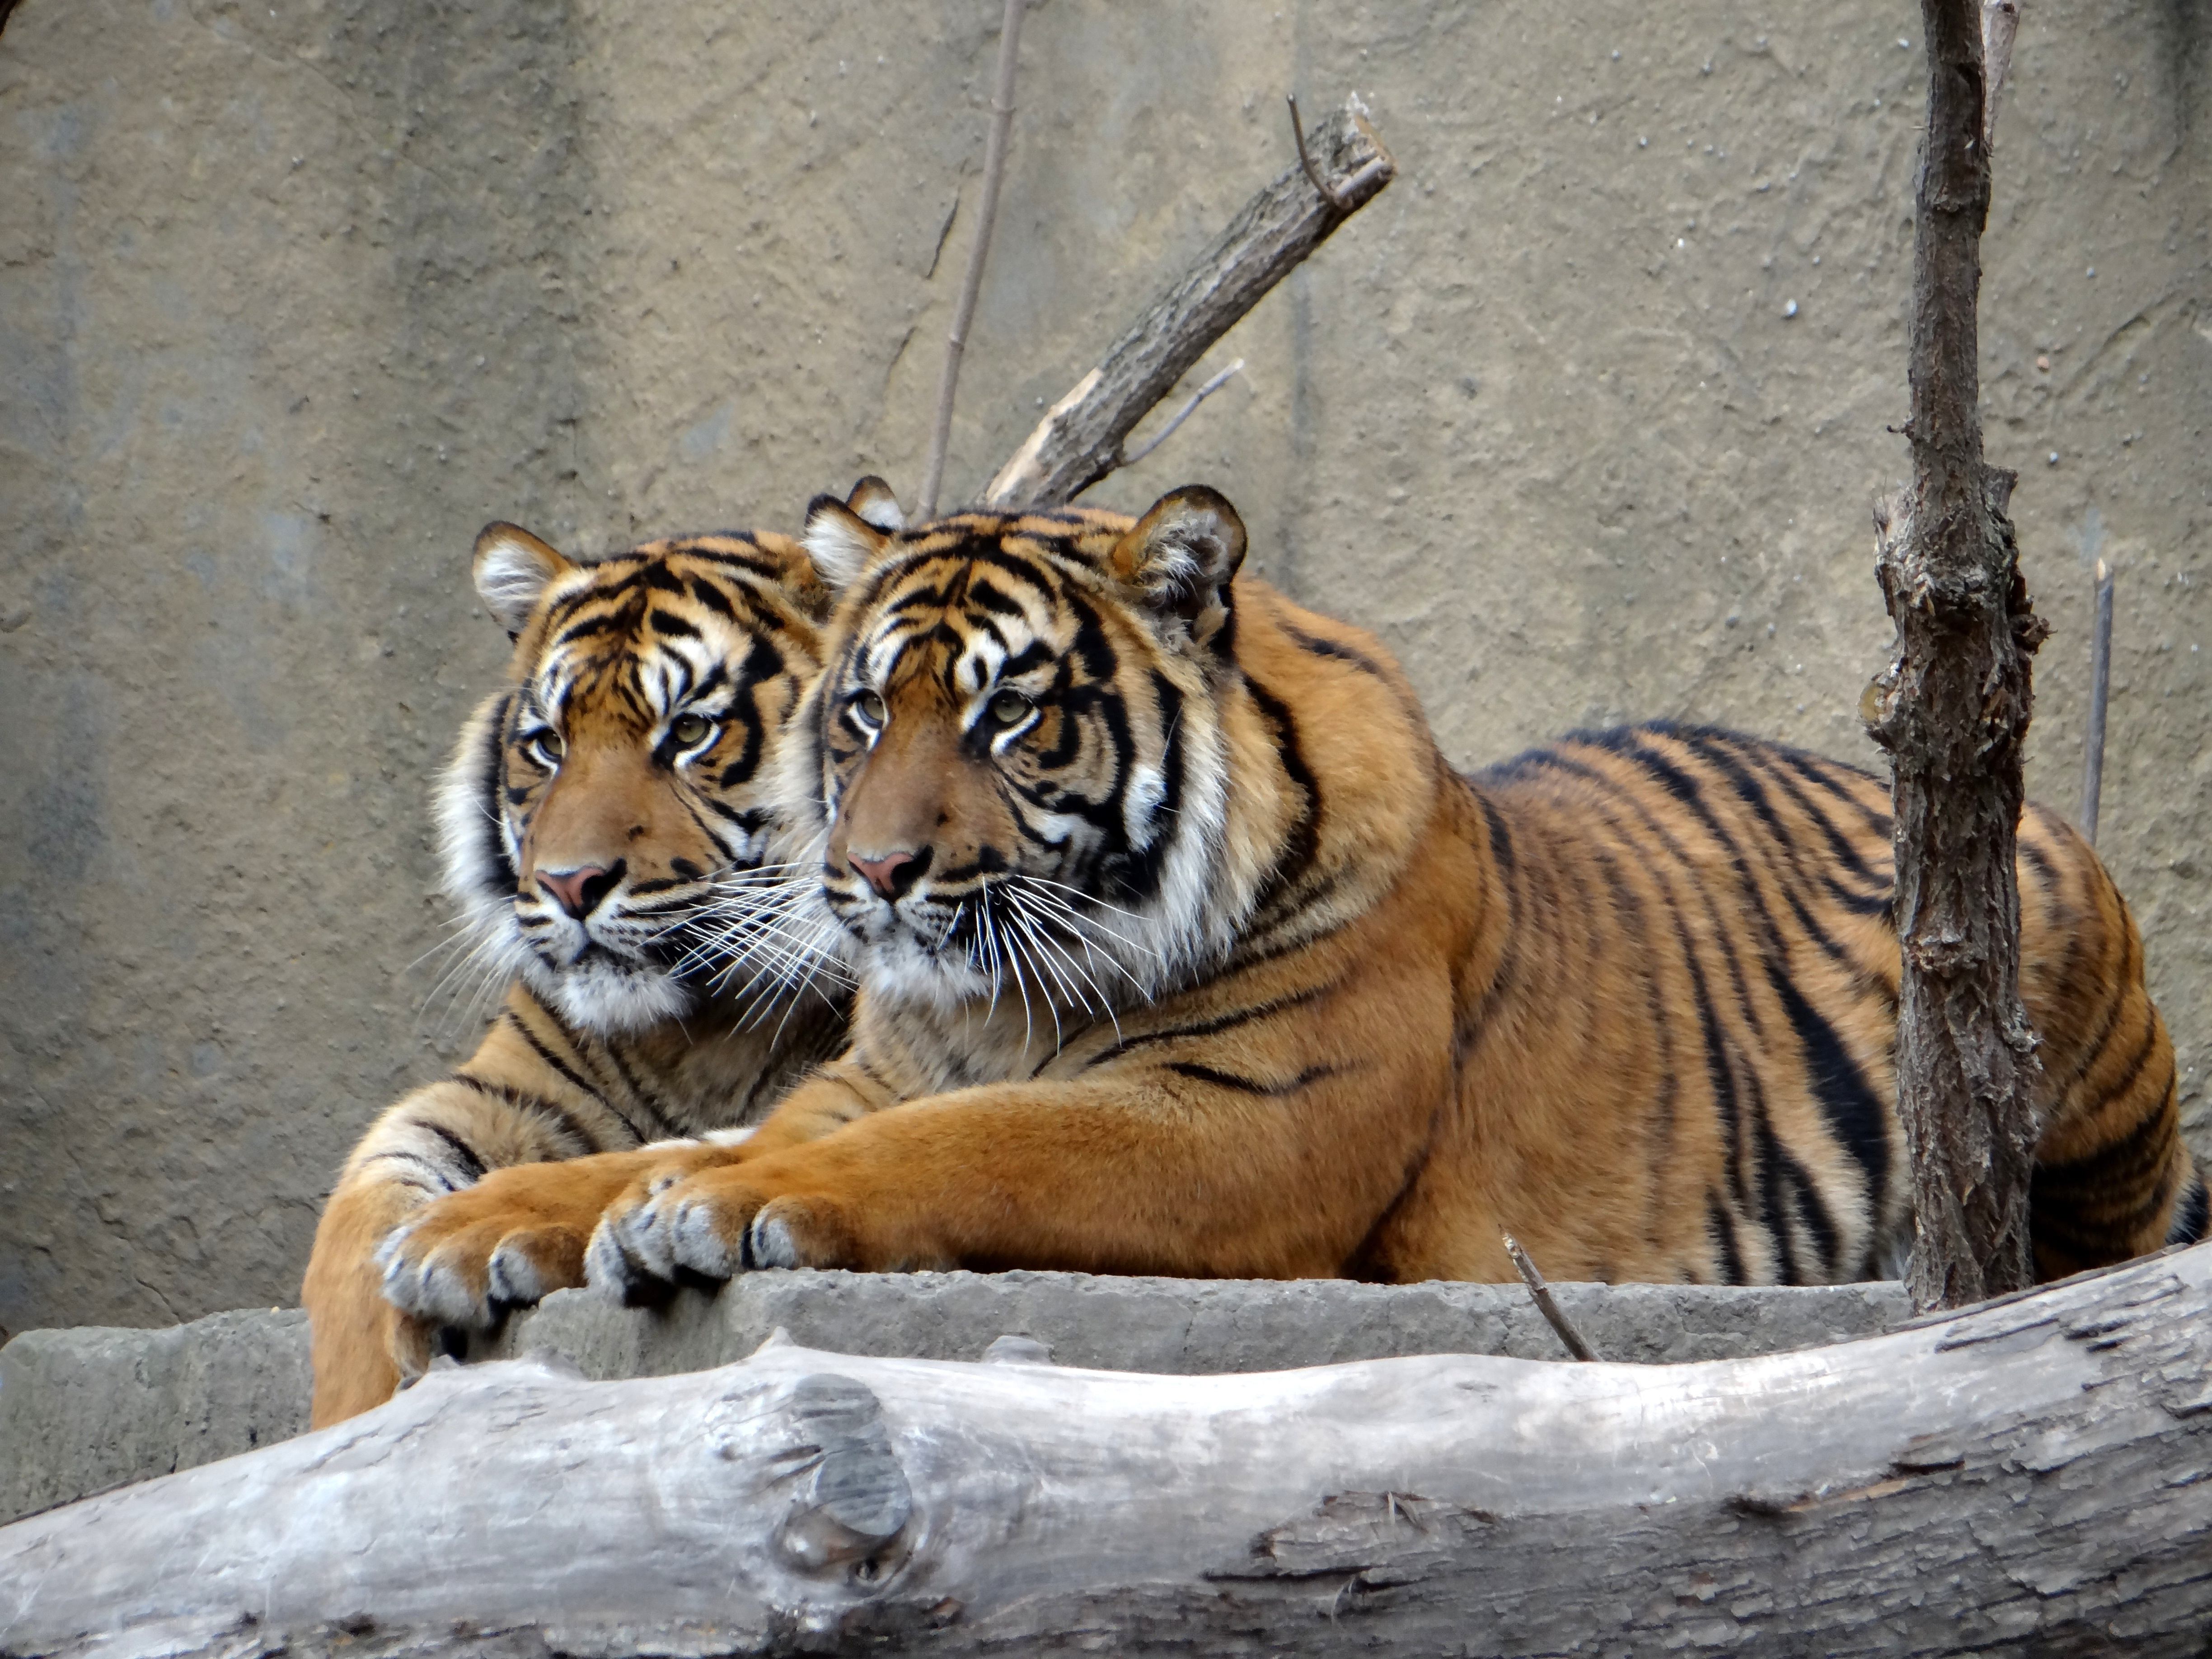tiger: (735, 471, 2155, 1417), (300, 423, 900, 1324)
